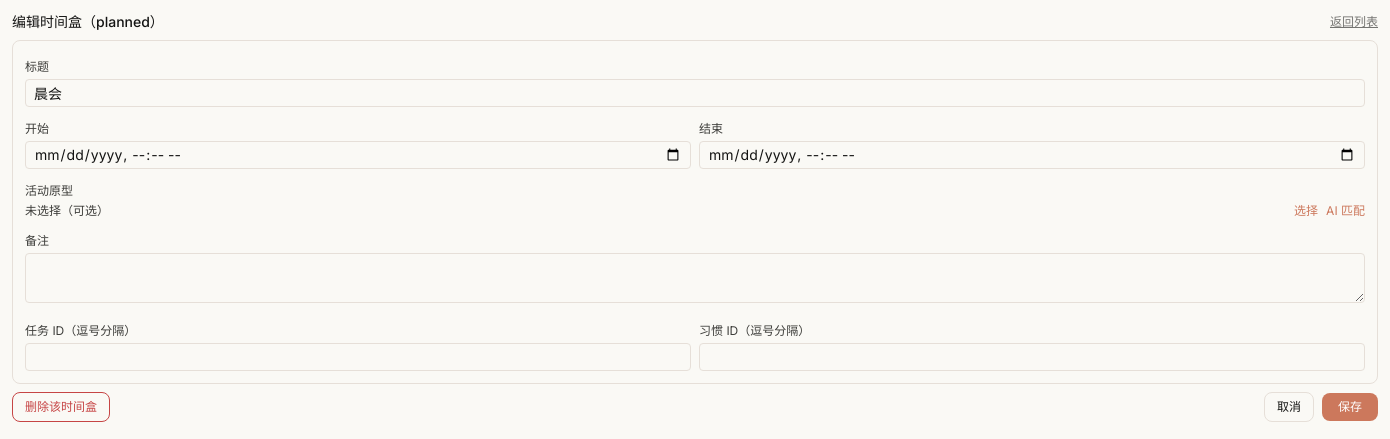
Scenario: [023.04] T4 <EditTimeboxes> › case 7: editing 顶部「返回列表」→ 退到 selecting
The width and height of the screenshot is (1390, 439).
Click the button "返回列表".
click(1354, 22)  # box [1330,14,1378,30]
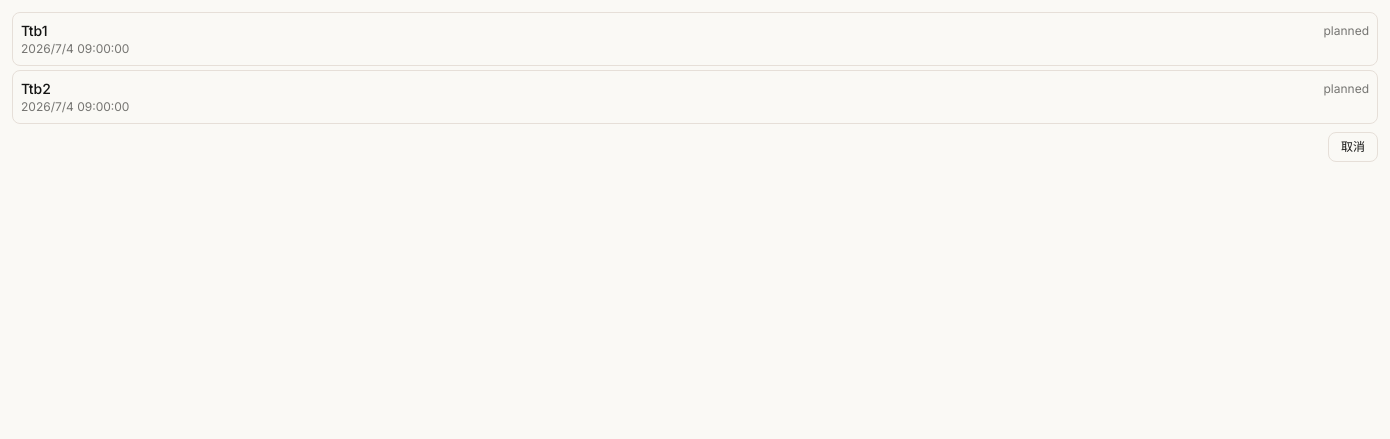
Result: the text "Ttb1" is shown at [21,21,48,41]
Result: the button "返回列表" is gone
